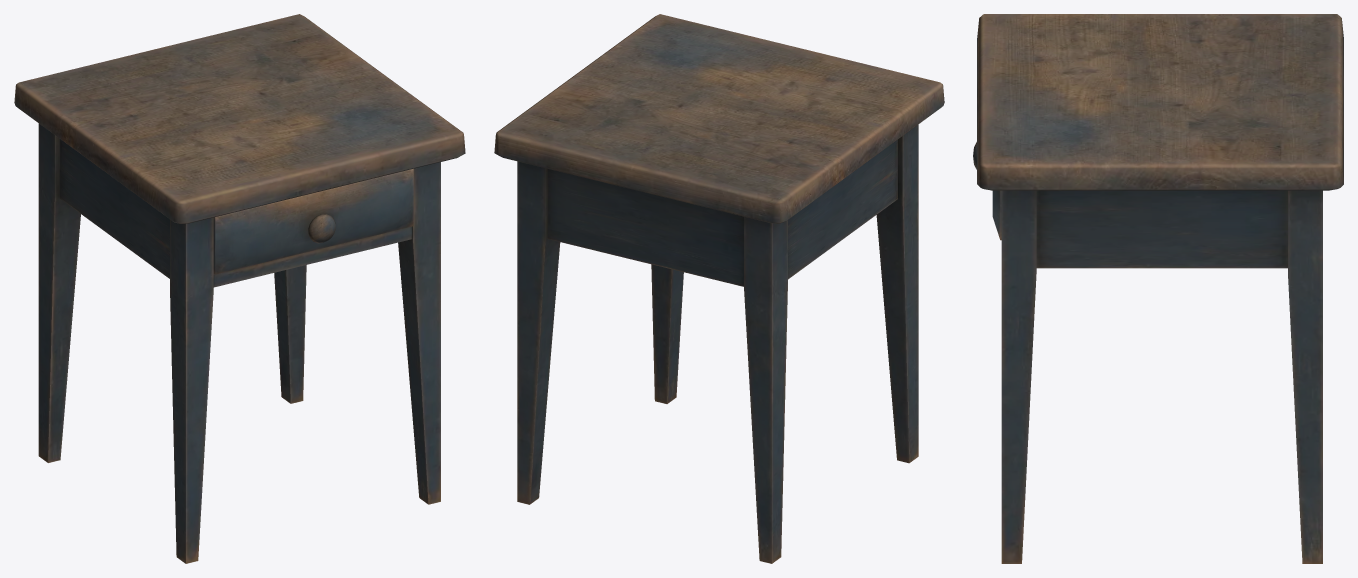
Rendered from side-table.glb.
The picture shows the model from 3 angles, left to right: view 1: azimuth 30°, elevation 25°; view 2: azimuth 150°, elevation 25°; view 3: azimuth 270°, elevation 25°; orthographic projection. The views are drawn at different scales.
Parts seen in each view (by area): view 1: painted_wooden_nightstand; view 2: painted_wooden_nightstand; view 3: painted_wooden_nightstand.
Part boxes in pixels (x1=…): painted_wooden_nightstand: x1=14, y1=14, x2=465, y2=563; painted_wooden_nightstand: x1=494, y1=14, x2=944, y2=563; painted_wooden_nightstand: x1=973, y1=14, x2=1343, y2=563.
Size of the model in its own units: 0.4463 by 0.5445 by 0.45.
1 material, 1 textured.
